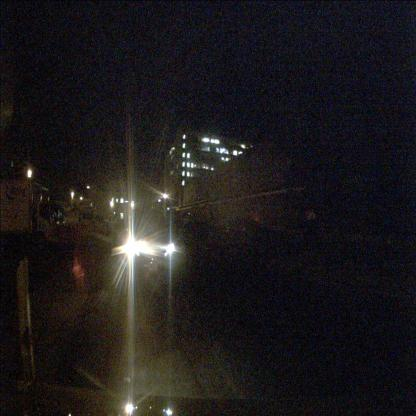vehicle-car: (124, 206, 174, 286)
vehicle-truck: (0, 178, 65, 254)
